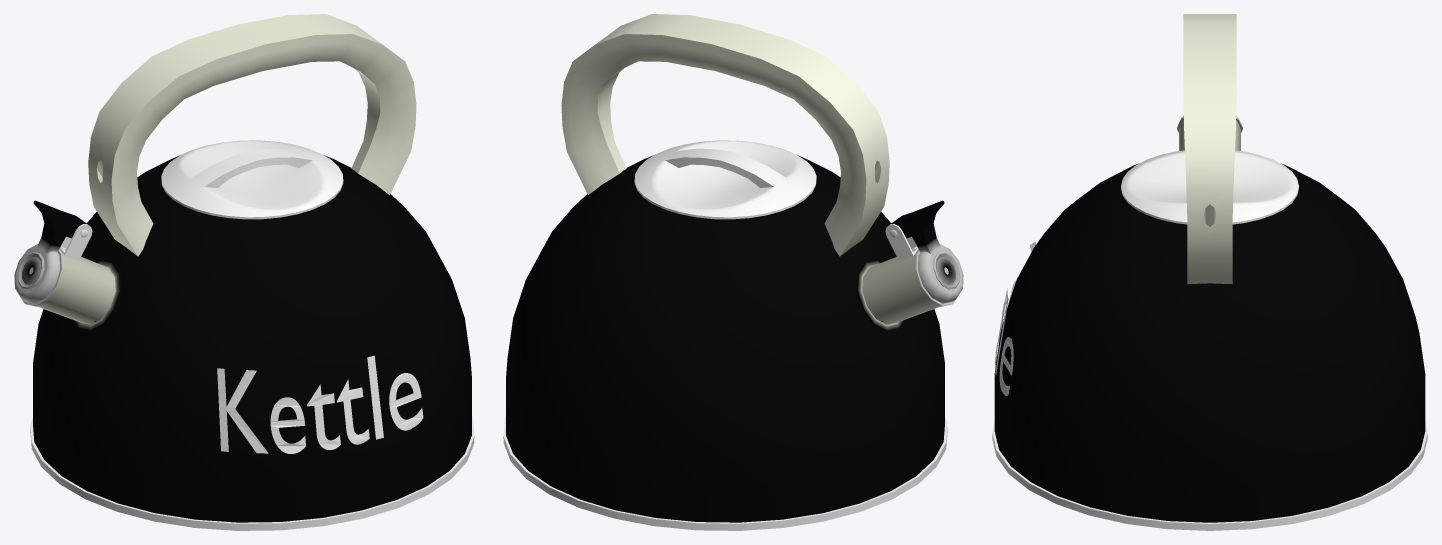
The model's file is kettleA.fbx.
3 views of the same model, side by side, from view 1: azimuth 30°, elevation 25°; view 2: azimuth 150°, elevation 25°; view 3: azimuth 270°, elevation 25° (orthographic). The views are drawn at different scales.
Visible parts, largest first — view 1: bolts; view 2: bolts; view 3: bolts.
Part boxes in pixels (box(x1,y1,x2,y2)): bolts: box(14, 14, 474, 530); bolts: box(503, 14, 963, 530); bolts: box(992, 14, 1427, 530).
Size of the model in its own units: 27.19 by 24.62 by 24.66.
